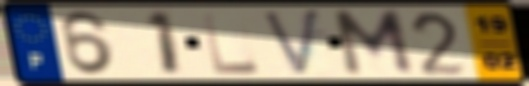1: (144, 9, 189, 77)
2: (408, 10, 468, 76)
6: (58, 8, 120, 78)
L: (199, 10, 265, 76)
M: (329, 7, 419, 78)
V: (259, 6, 323, 79)
